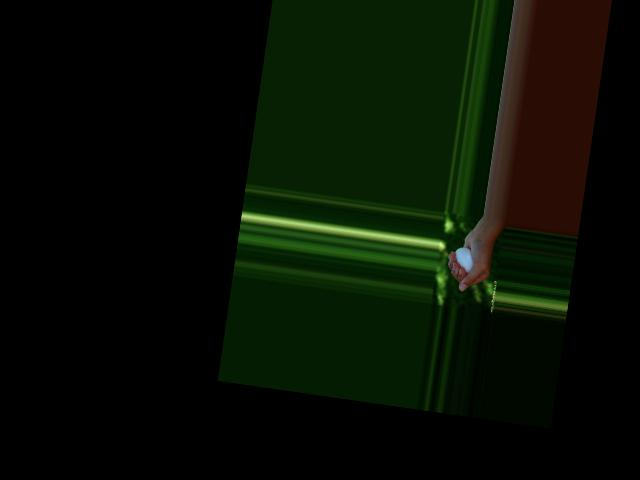egg: (452, 246, 475, 274)
